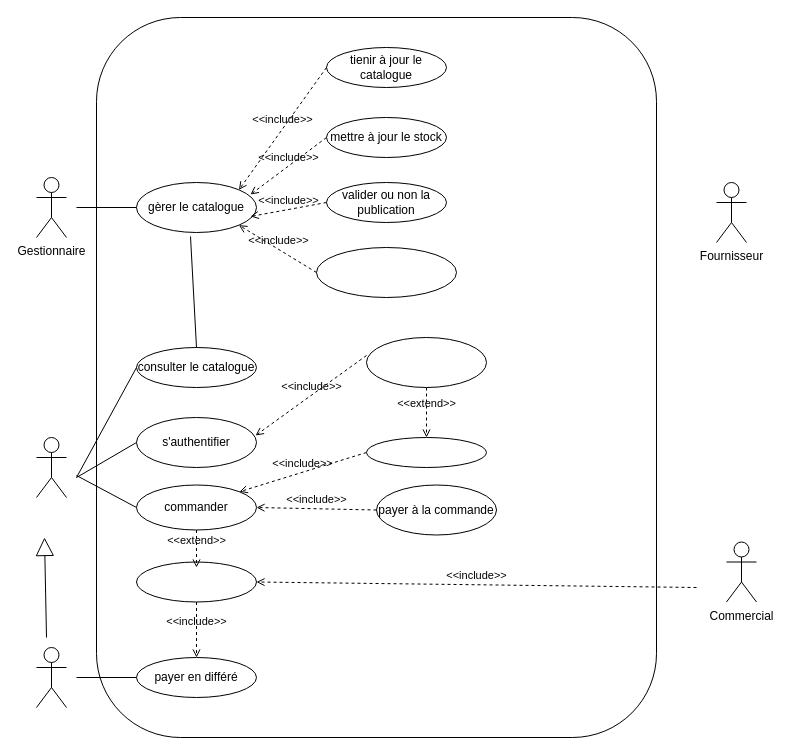
Image size: 790x755. Some labels were removed from this diagram. The shapes that lost their labels are listed below. From the top down, each one's centre as x and y in pixels, then its label:
pixel 386 272: gérer les Rubrique/ et les Sous-Rubrique
pixel 426 362: ajoute & suppprime les produits au panier
pixel 51 467: ClientPart
pixel 426 452: valider le panier
pixel 196 581: négocier réduction
pixel 51 677: ClientPro
